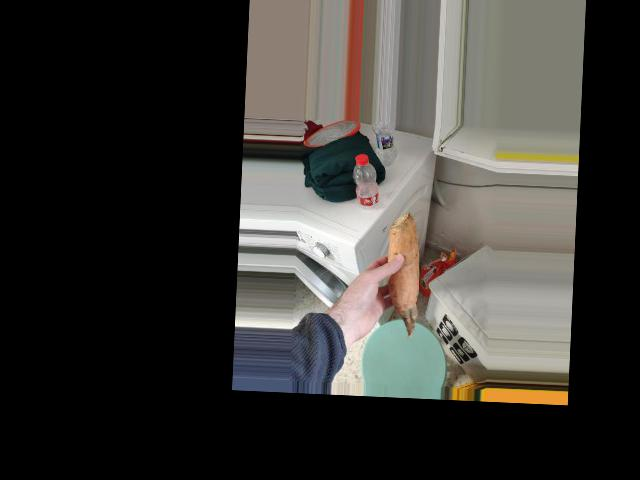sweet_potato: (379, 220, 424, 328)
